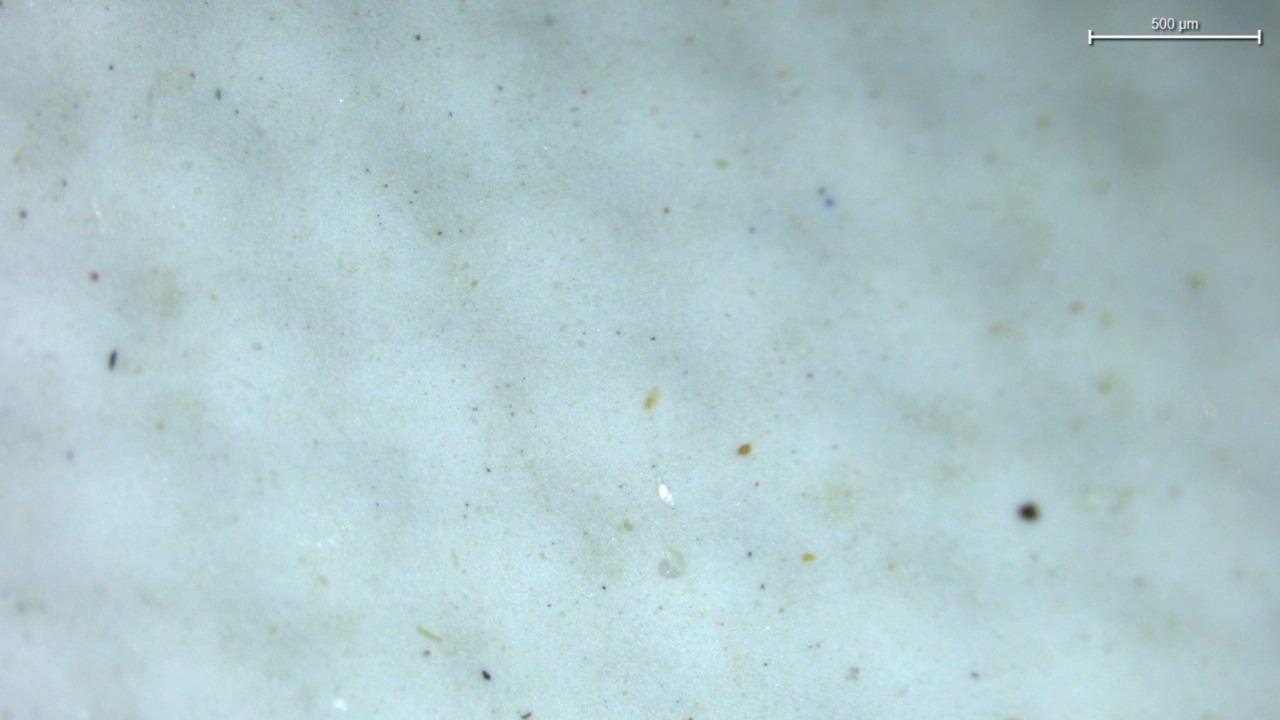microplastic_fragment: (658, 483, 673, 504)
